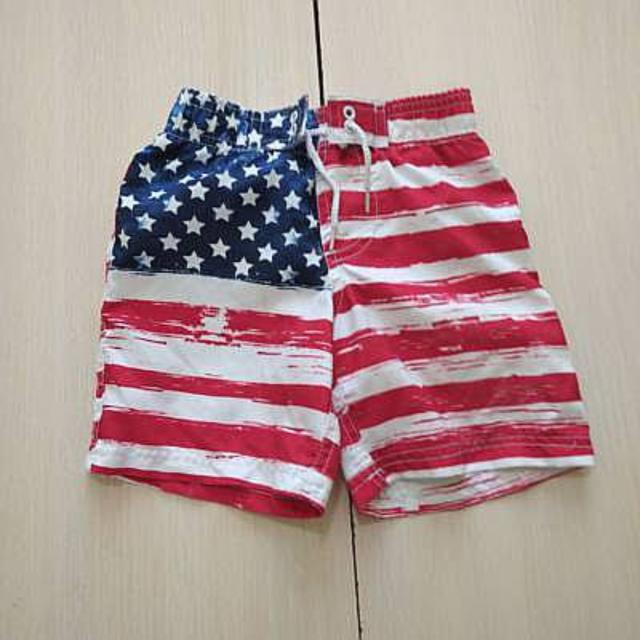SHORT: (61, 74, 620, 523)
